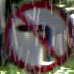Don't turn left: (2, 2, 73, 73)
